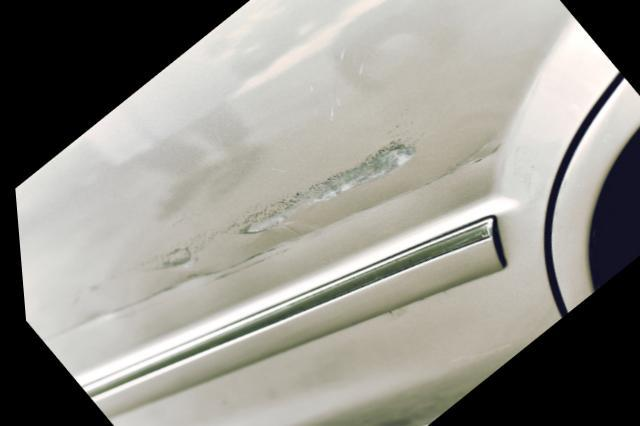scratch: (29, 133, 421, 349)
